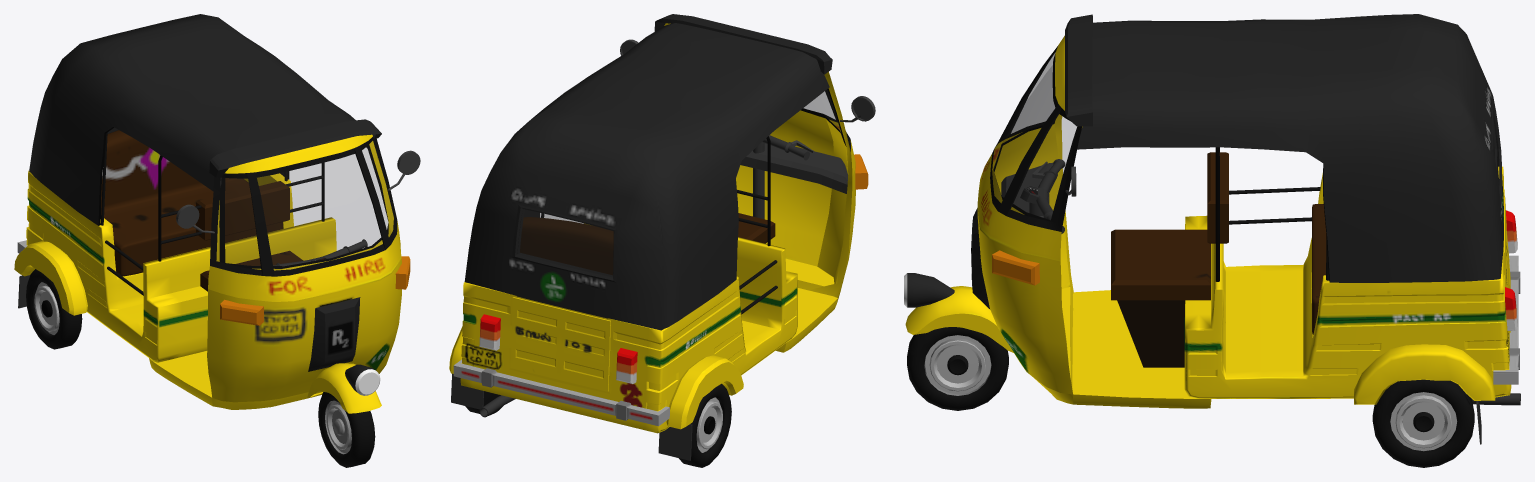
Rendered from auto_rickshaw.glb.
3 views of the same model, side by side, from view 1: azimuth 30°, elevation 25°; view 2: azimuth 150°, elevation 25°; view 3: azimuth 270°, elevation 25° (orthographic). The views are drawn at different scales.
Visible parts, largest first — view 1: persp5; view 2: persp5; view 3: persp5.
Part boxes in pixels (<box>): persp5: <box>14,14,420,467</box>; persp5: <box>449,14,875,467</box>; persp5: <box>904,14,1520,467</box>.
Size of the model in its own units: 1.5 by 1.74 by 2.72.
2 materials, 1 textured.
